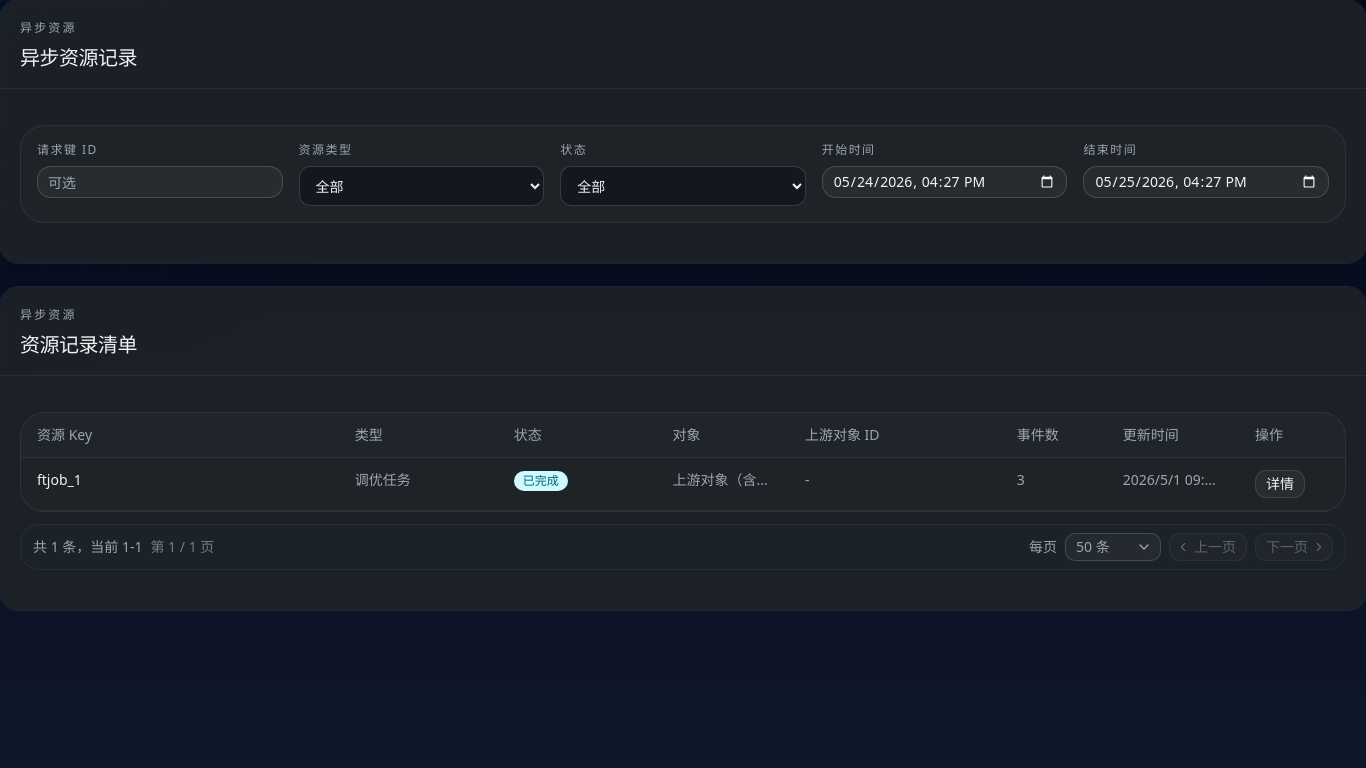
ResourcesPage › 在详情弹窗结构化展示谱系摘要
Check: the text "ftjob_1" is shown, box [21,458,339,510]
Click the button "详情" at (1280, 484), box [1255,470,1305,498]
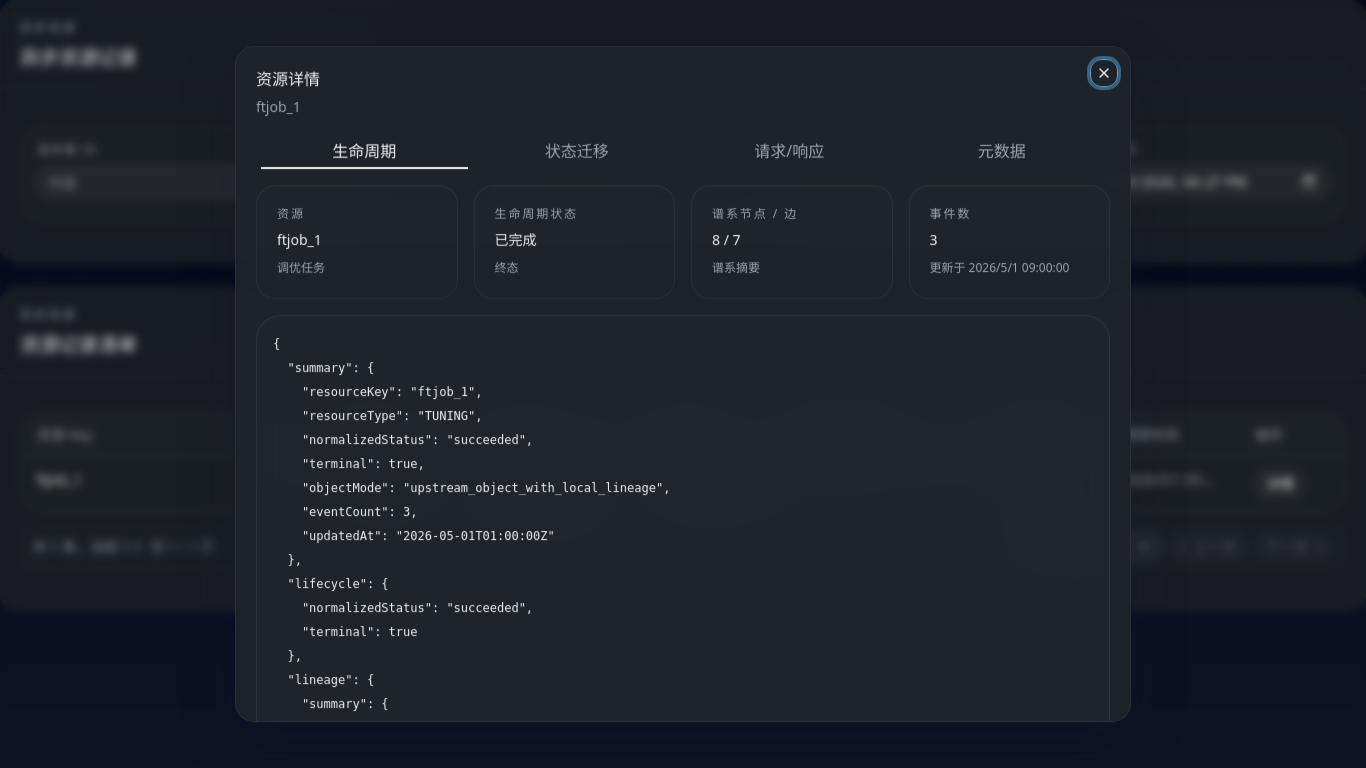
Check: the text "谱系节点 / 边" is shown, box [712,205,798,222]
Check: the text "8 / 7" is shown, box [712,230,740,249]
Check: the text "生命周期状态" is shown, box [494,205,578,222]
